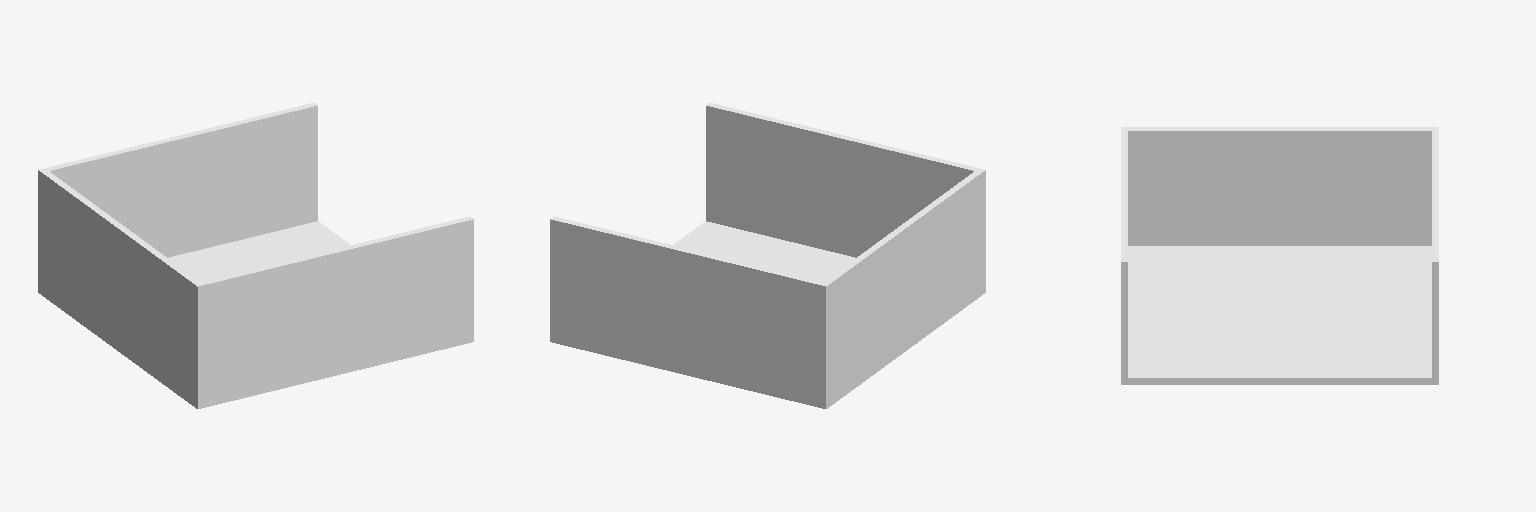
Rendered from corner.obj.
3 renders of one model, left to right at view 1: azimuth 30°, elevation 25°; view 2: azimuth 150°, elevation 25°; view 3: azimuth 270°, elevation 25°, orthographic.
Parts seen in each view (by area): view 1: object 1; view 2: object 1; view 3: object 1.
Part boxes in pixels (x1,y1,x2,y2): object 1: (38, 103, 473, 408); object 1: (550, 103, 985, 408); object 1: (1121, 127, 1438, 384).
Bounding box in the file's own units: 4 × 1.7 × 4.